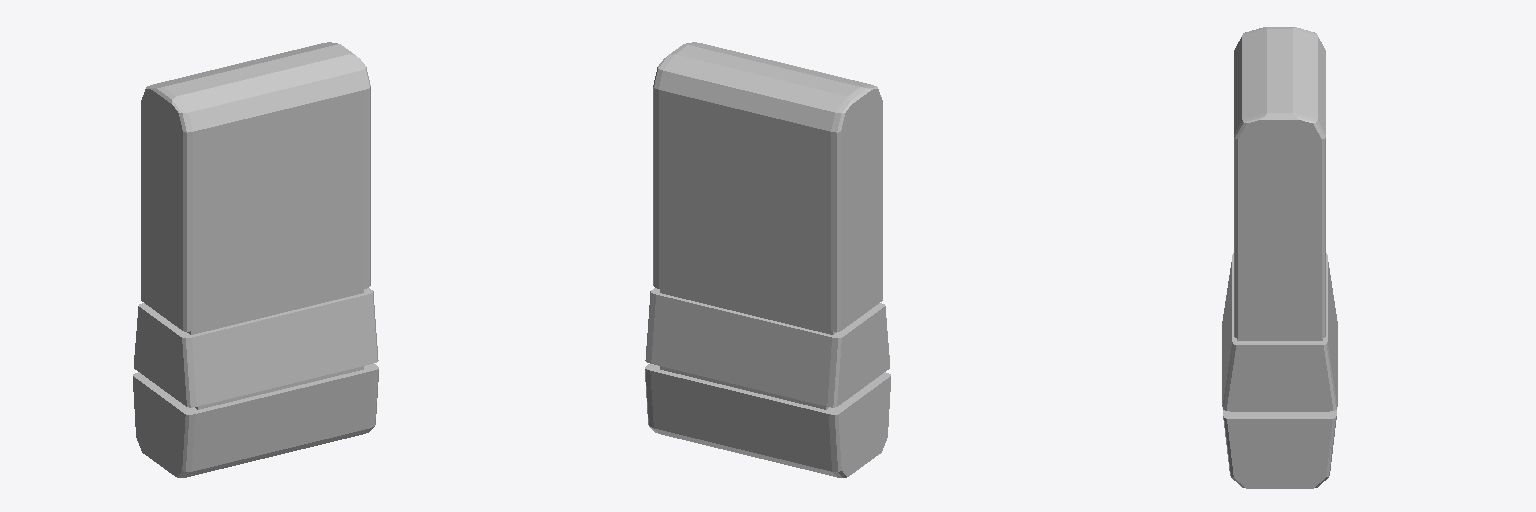
3 renders of one model, left to right at view 1: azimuth 30°, elevation 25°; view 2: azimuth 150°, elevation 25°; view 3: azimuth 270°, elevation 25°, orthographic.
Parts seen in each view (by area): view 1: Main, Inner; view 2: Main, Inner; view 3: Main.
Part boxes in pixels (x1,y1,x2,y2): Main: (133,42,378,477); Inner: (187,289,363,409); Main: (645,42,890,477); Inner: (660,289,836,409); Main: (1222,27,1337,488).
Size of the model in its own units: 4.48 by 8.18 by 2.3.